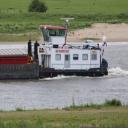tugboat: (26, 18, 110, 81)
